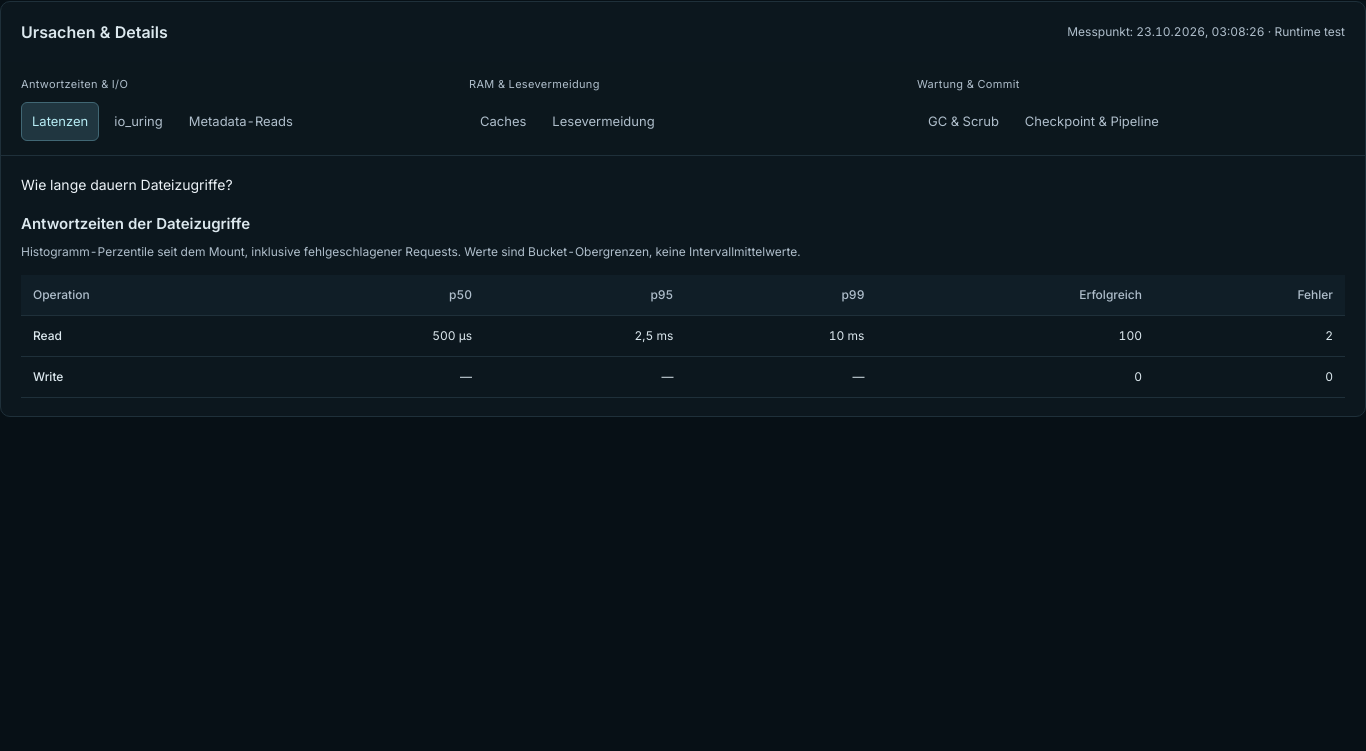
Test: separates allocation reuse from disk-saving cache hit rates
This screenshot has width=1366, height=751.
Click the tab "Caches" at [503, 121], box [469, 102, 537, 141]
(page scrolled)
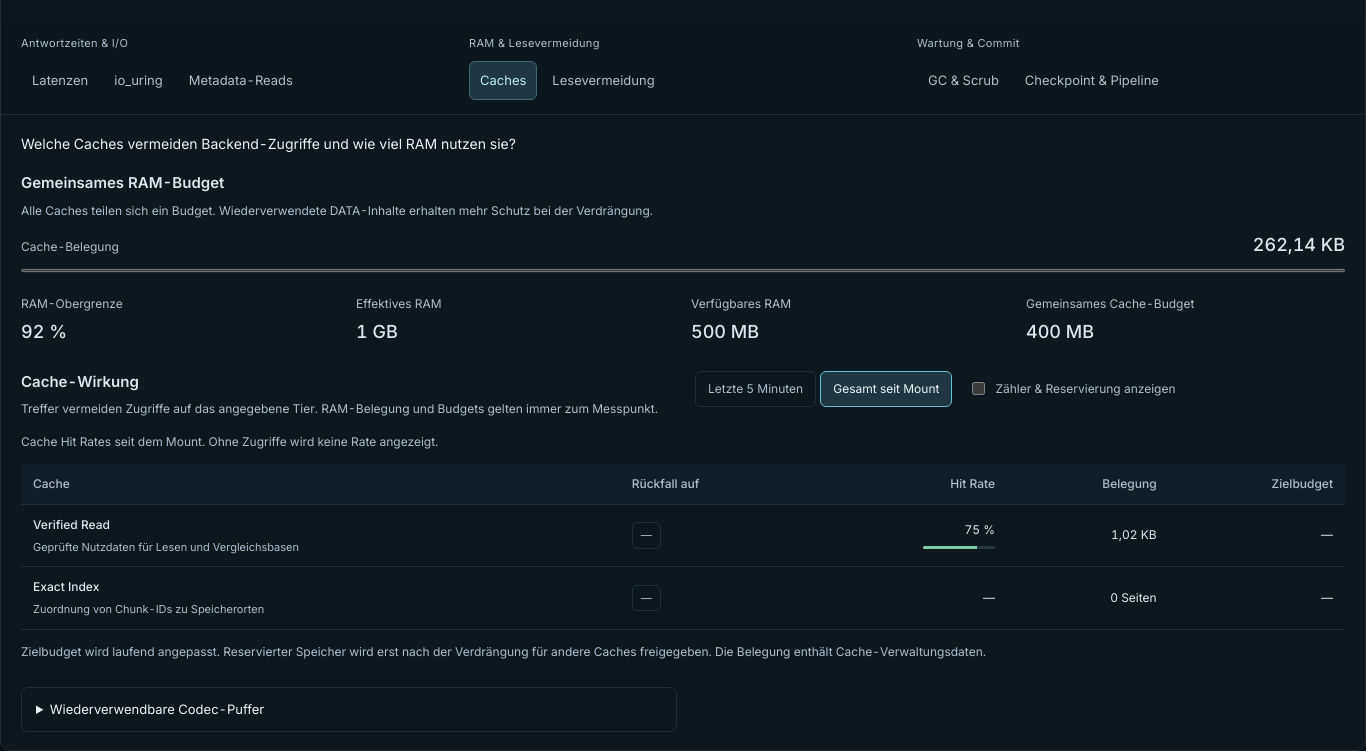
Click the heading "Wiederverwendbare Codec-Puffer" at [157, 709], box [50, 701, 264, 717]
(page scrolled)
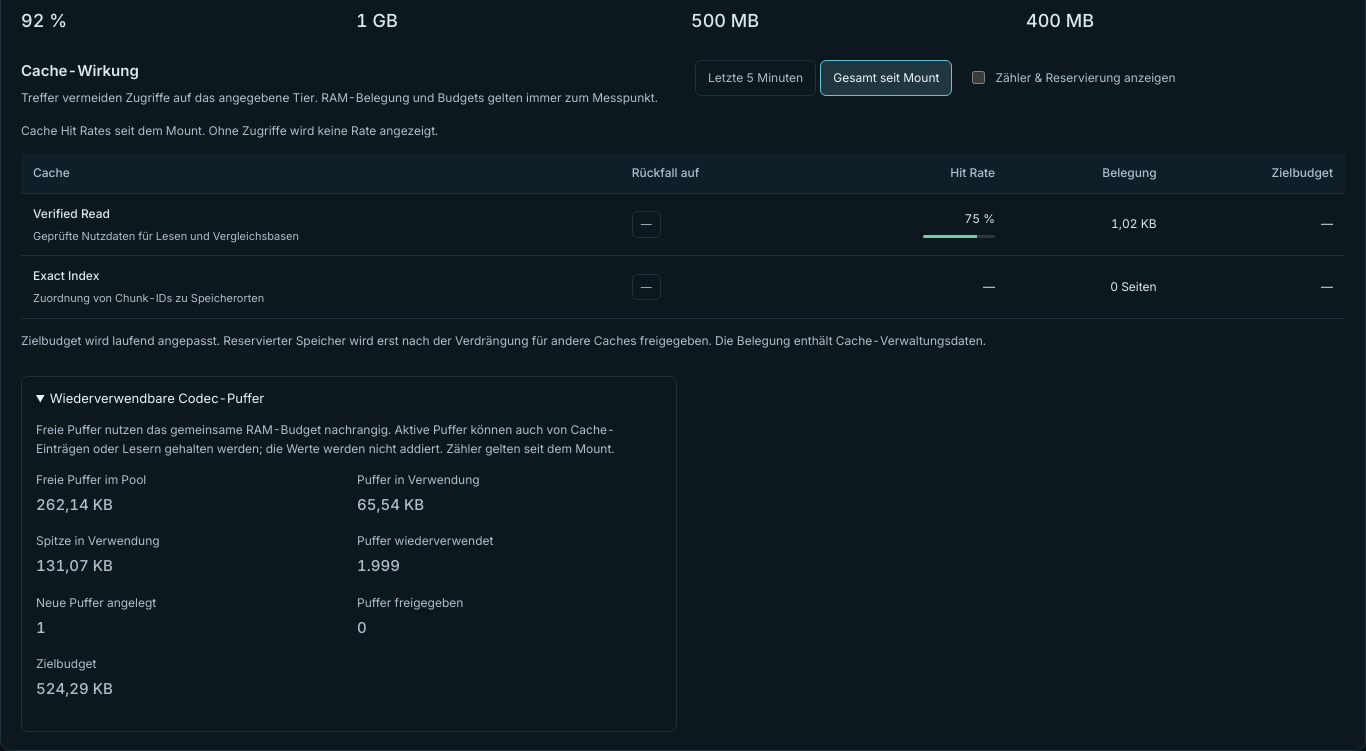
Result: the text "Puffer wiederverwendet" is shown at [357, 533, 493, 548]
Result: the text "1.999" is shown at [357, 556, 400, 575]
